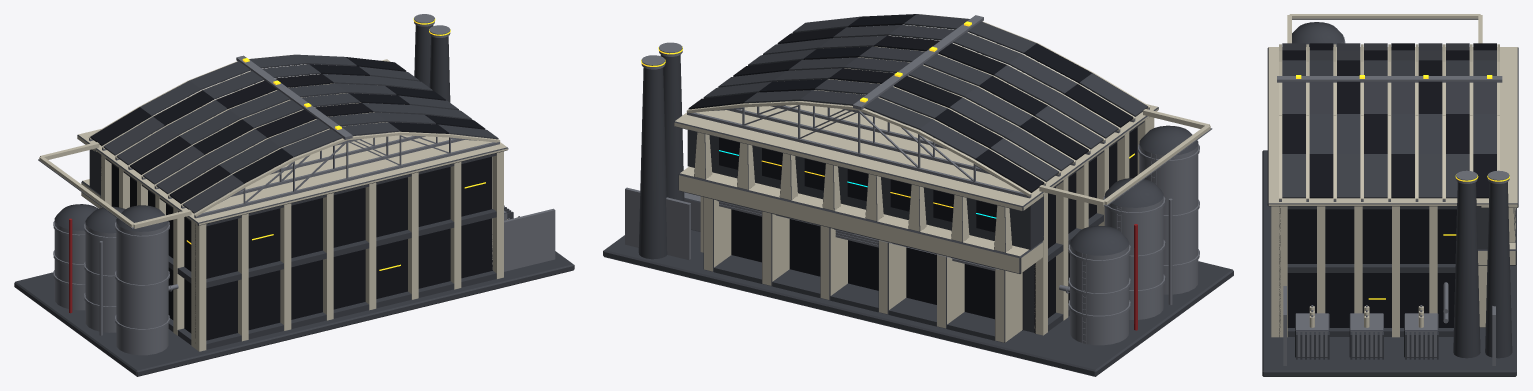
Rendered from exchange_hall.glb.
3 renders of one model, left to right at view 1: azimuth 30°, elevation 25°; view 2: azimuth 150°, elevation 25°; view 3: azimuth 270°, elevation 25°, orthographic. The views are drawn at different scales.
Visible parts, largest first — view 1: exchange_hall; view 2: exchange_hall; view 3: exchange_hall.
Part boxes in pixels (left/top/right/bottom): exchange_hall: left=14, top=14, right=574, bottom=376; exchange_hall: left=603, top=14, right=1233, bottom=376; exchange_hall: left=1262, top=14, right=1518, bottom=376.
Size of the model in its own units: 57.6 by 23.15 by 28.2.
